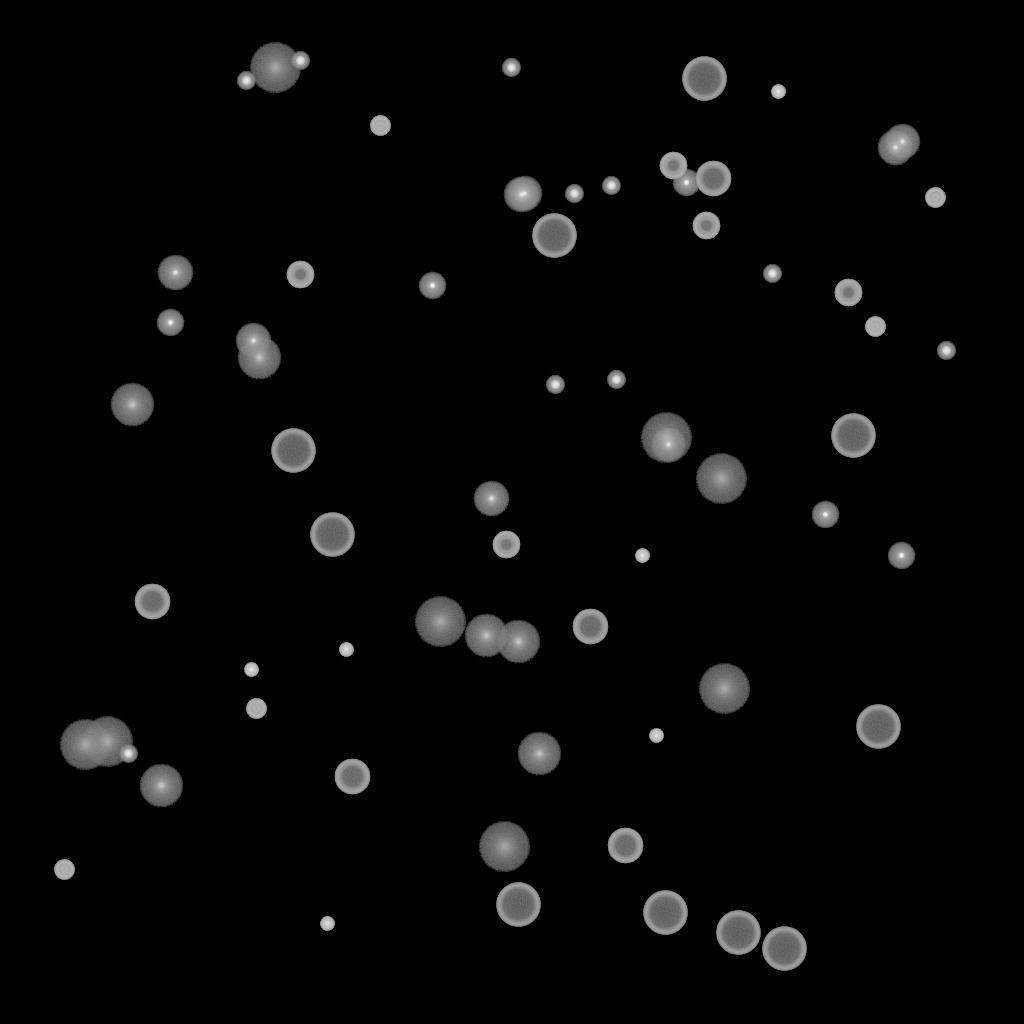depth:-10: (811, 501, 839, 529), (418, 272, 446, 300), (887, 542, 915, 570), (156, 309, 184, 337), (672, 169, 700, 197)
depth:-20: (565, 185, 583, 203), (291, 52, 309, 70), (546, 376, 564, 394), (502, 59, 520, 77), (763, 265, 781, 283), (237, 72, 255, 90), (937, 342, 955, 360), (602, 177, 620, 195), (119, 745, 137, 763), (607, 371, 625, 389)
depth:-30: (635, 549, 649, 563), (339, 643, 353, 657), (649, 729, 663, 743), (320, 917, 334, 931), (771, 85, 785, 99), (244, 663, 258, 677)
depth:-40: (865, 317, 885, 337), (370, 116, 390, 136), (54, 860, 74, 880), (925, 188, 945, 208), (246, 699, 266, 719)
depth:-50: (659, 152, 687, 180), (692, 212, 720, 240), (492, 531, 520, 559), (286, 261, 314, 289), (834, 279, 862, 307)
depth:-60: (334, 759, 370, 795), (695, 161, 731, 197), (134, 584, 170, 620), (572, 609, 608, 645), (607, 828, 643, 864)
depth:-70: (271, 429, 315, 473), (831, 414, 875, 458), (682, 57, 726, 101), (856, 705, 900, 749), (310, 513, 354, 557), (762, 927, 806, 971), (716, 911, 760, 955), (532, 214, 576, 258), (643, 891, 687, 935), (496, 883, 540, 927)
depth:0: (877, 130, 913, 166), (235, 323, 271, 359), (506, 176, 542, 212), (884, 124, 920, 160), (503, 177, 539, 213), (650, 427, 686, 463), (157, 255, 193, 291), (473, 481, 509, 517)
depth:10: (110, 383, 154, 427), (139, 764, 183, 808), (464, 614, 508, 658), (496, 620, 540, 664), (237, 336, 281, 380), (517, 732, 561, 776)
depth:20: (81, 717, 133, 767), (698, 664, 750, 714), (640, 413, 692, 463), (59, 720, 111, 770), (249, 43, 301, 93), (414, 597, 466, 647), (478, 822, 530, 872), (695, 454, 747, 504)
